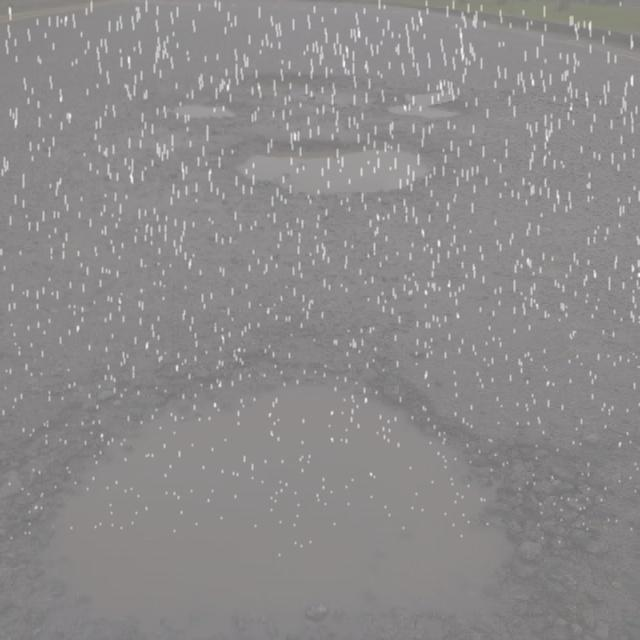Pothole: (13, 338, 546, 640), (224, 133, 446, 195), (243, 64, 381, 120), (387, 85, 467, 122), (158, 100, 239, 126)
